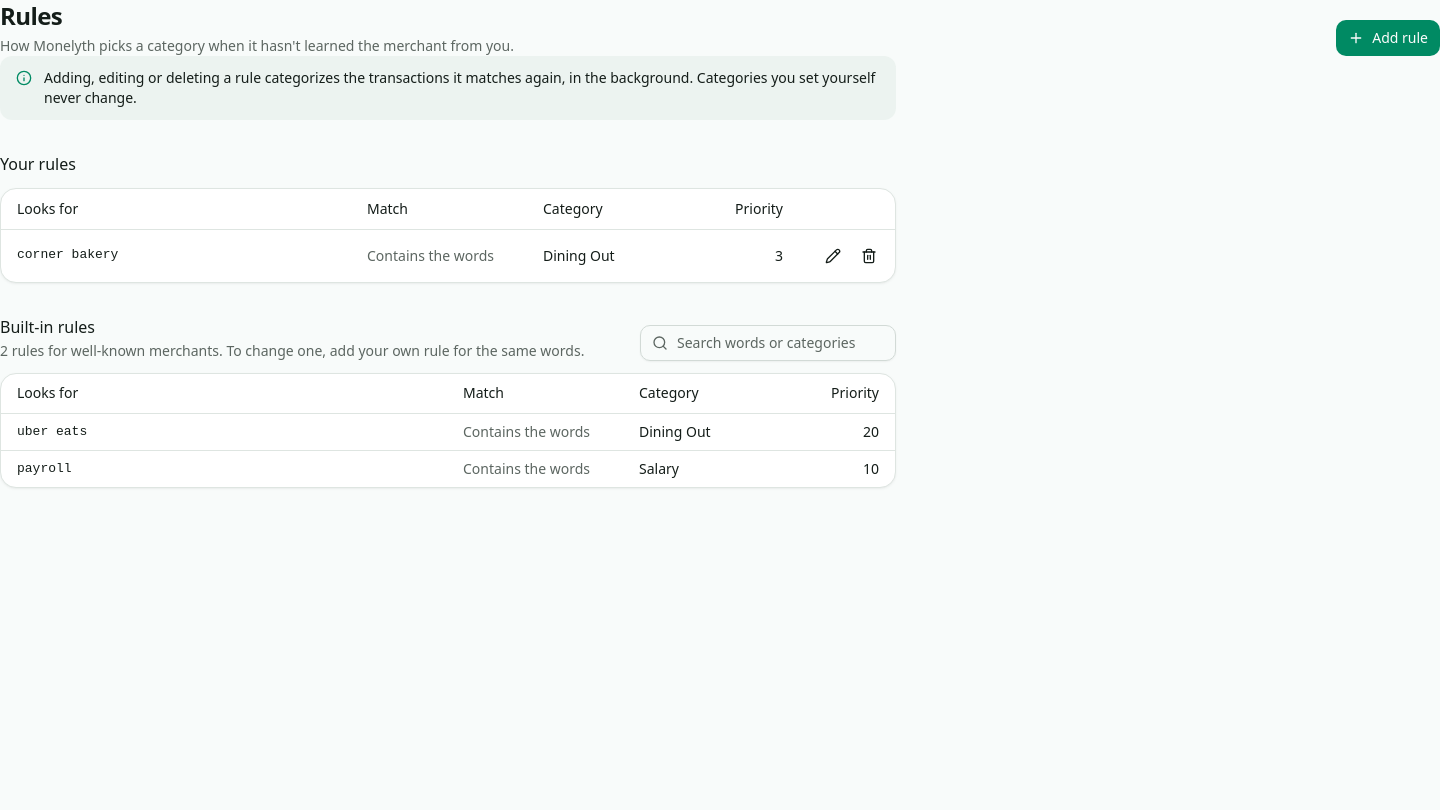
Test: RulesScreen › edits one of the user's rules
Click the button named "Edit the rule for corner bakery" at (833, 256), box left=815, top=238, right=851, bottom=274
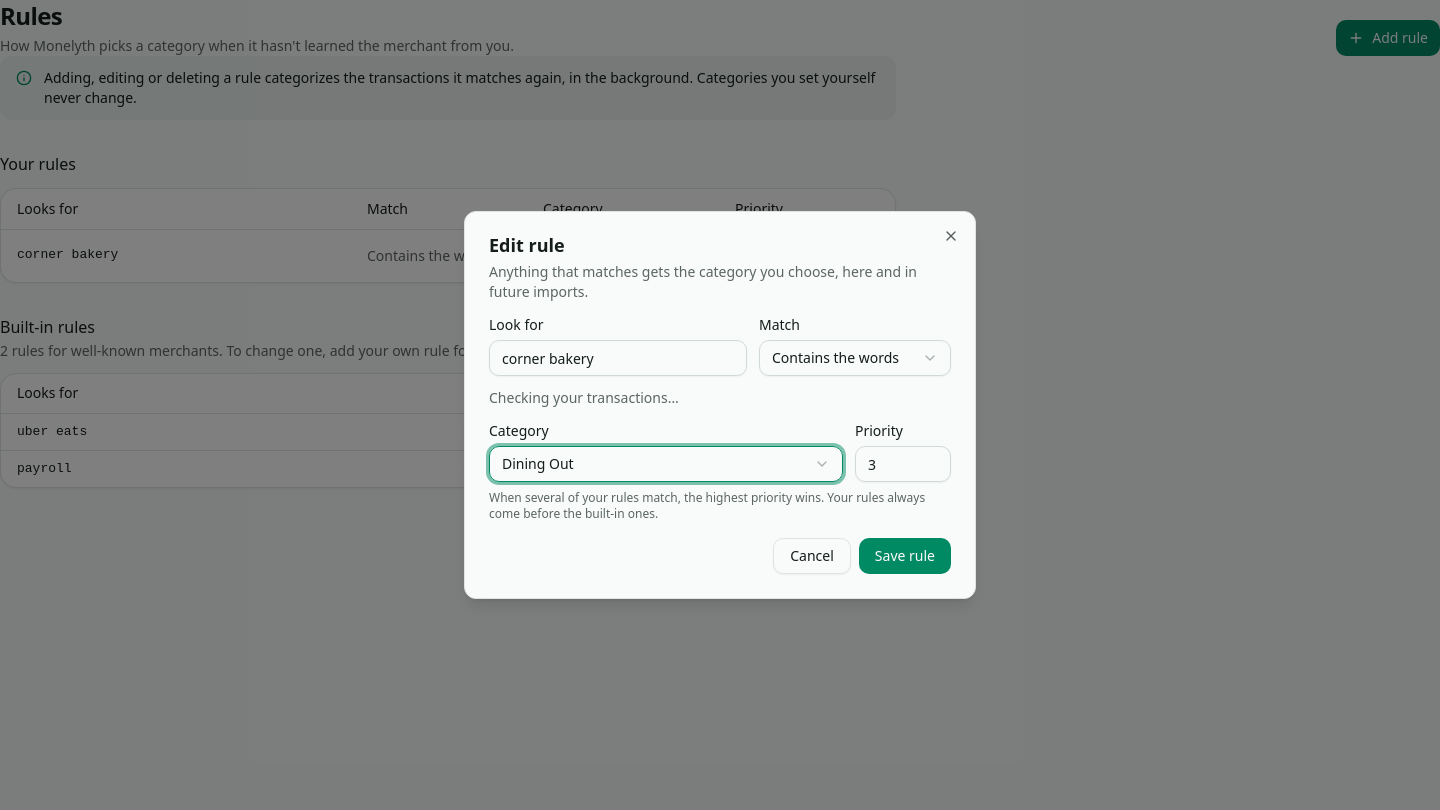
Expected: the field labelled "Look for" holds "corner bakery", left=489, top=340, right=747, bottom=376
Expected: the number field labelled "Priority" holds "3", left=855, top=446, right=951, bottom=482
Press Enter in the dropdown named "Category", box left=489, top=446, right=843, bottom=482
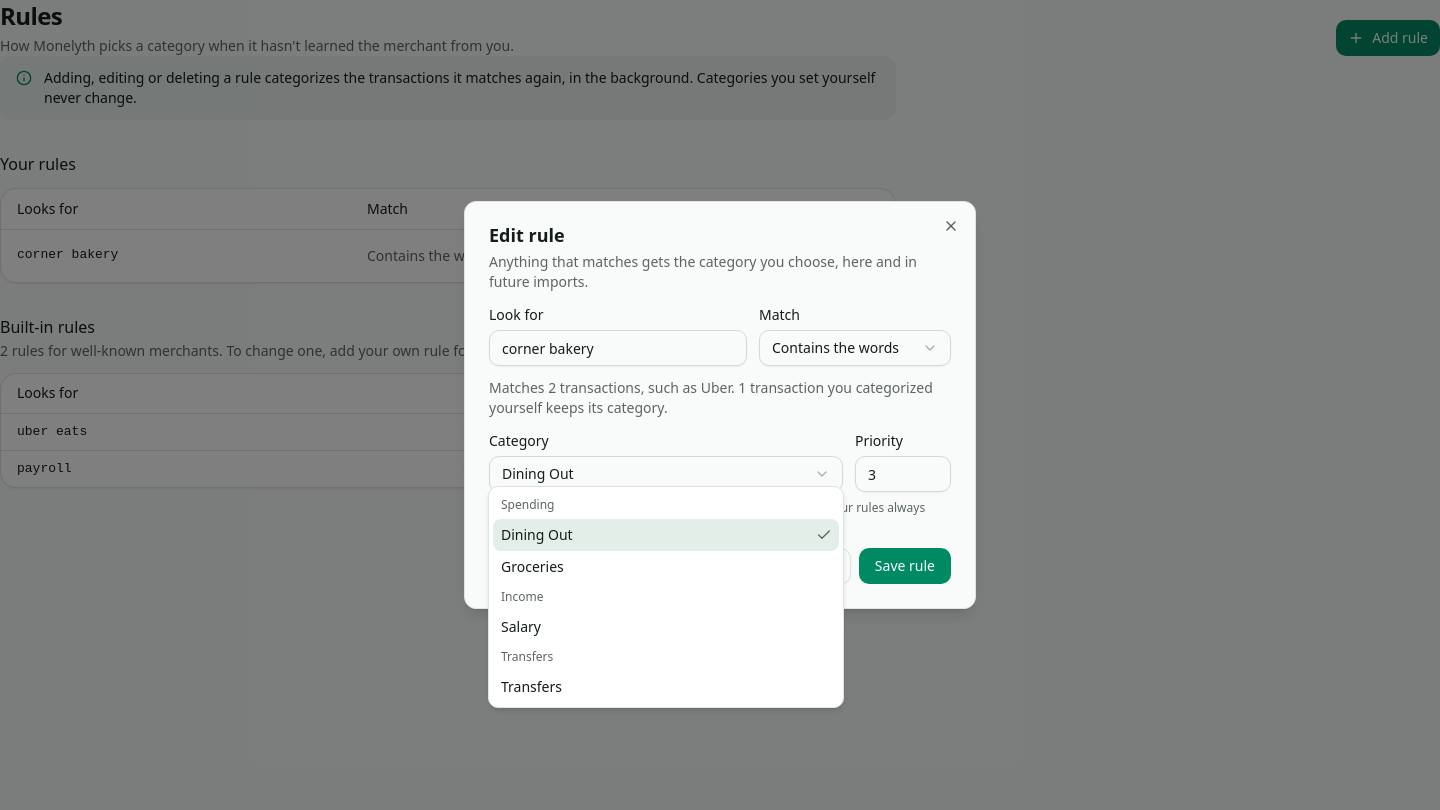
Press Enter in the option "Groceries", box left=501, top=557, right=564, bottom=576
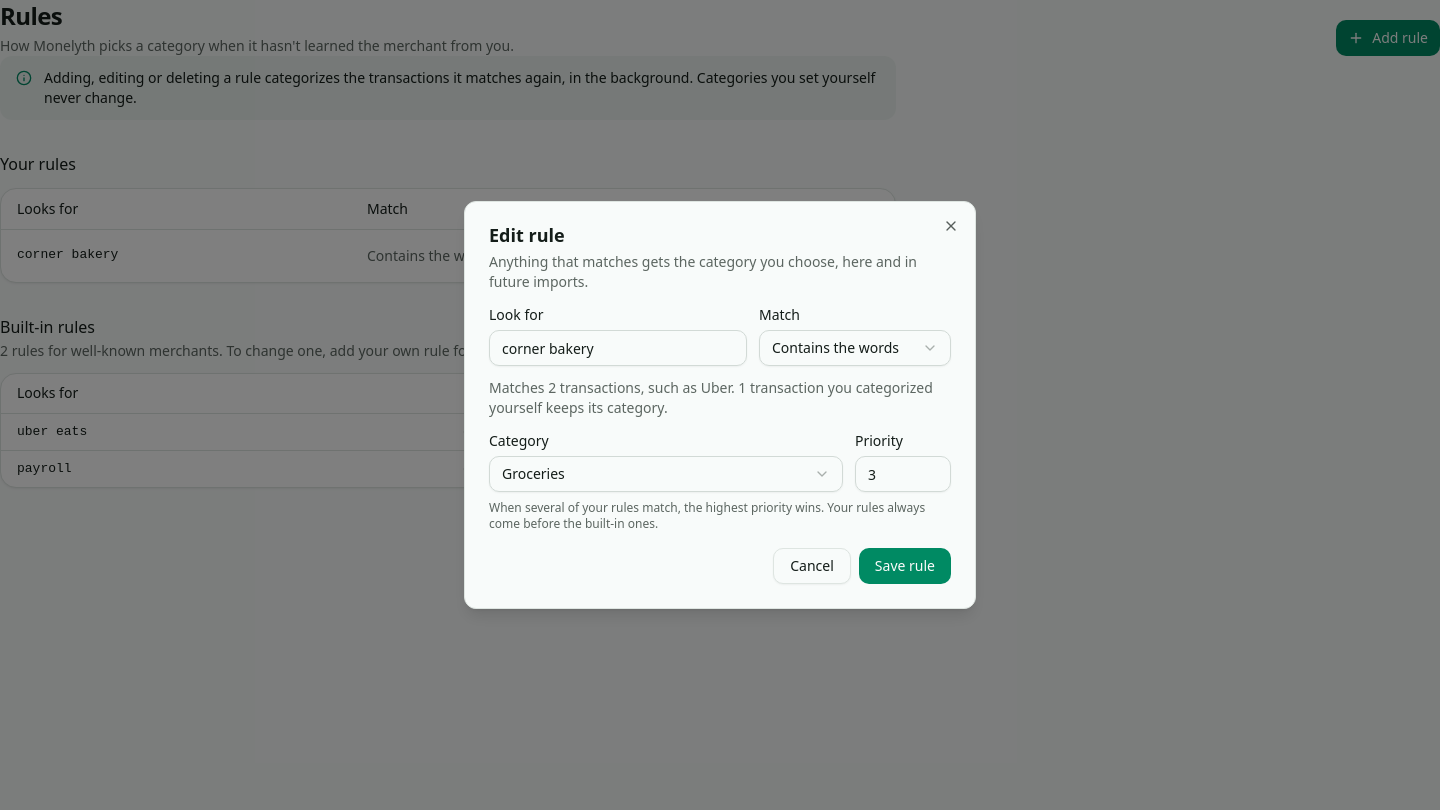
Click the button "Save rule" at (905, 566), box left=859, top=548, right=951, bottom=584
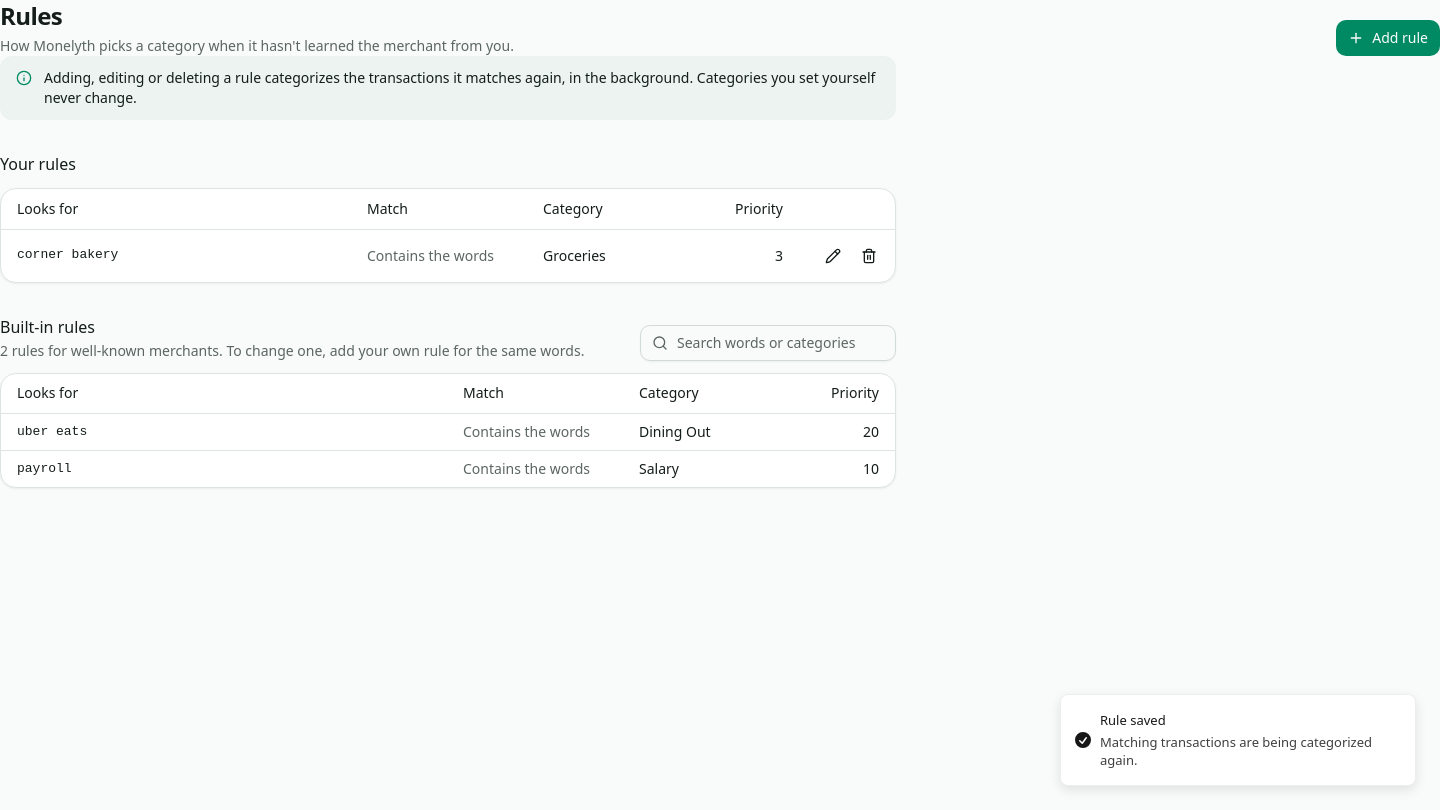
Expected: the text "Rule saved" is shown, left=1100, top=711, right=1166, bottom=729
